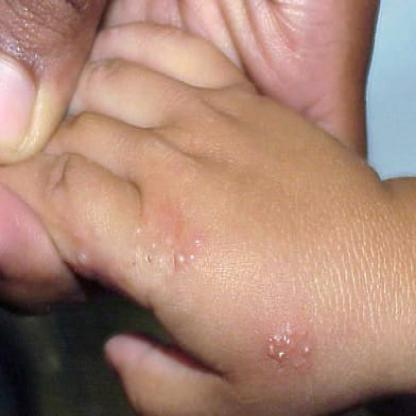Fire ant: (96, 190, 159, 255), (195, 290, 244, 342), (51, 206, 75, 249)
